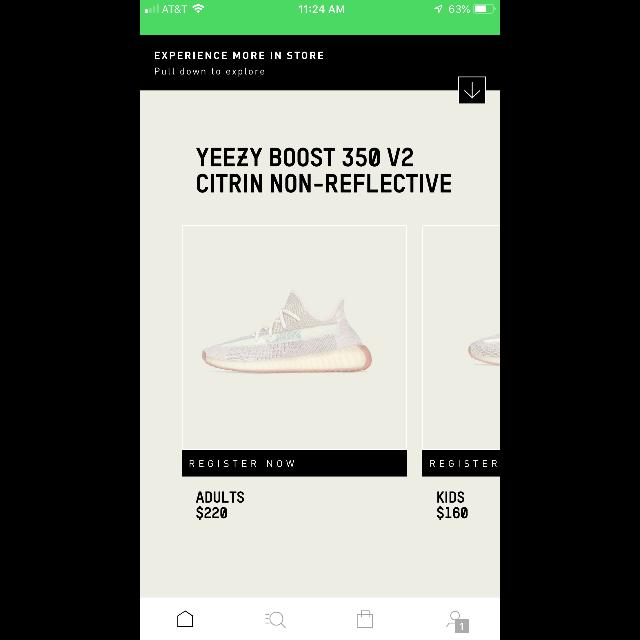icon: (458, 77, 486, 105), (447, 611, 469, 633), (266, 612, 286, 628), (358, 610, 372, 628), (178, 611, 192, 627)
image: (202, 290, 372, 374), (468, 333, 500, 367)
text: (196, 148, 452, 192), (196, 492, 244, 520), (155, 52, 323, 59), (437, 492, 468, 520), (156, 68, 264, 76)
textbutton: (182, 450, 406, 476), (422, 450, 500, 476)
uppertaskbar: (140, 0, 500, 14)
